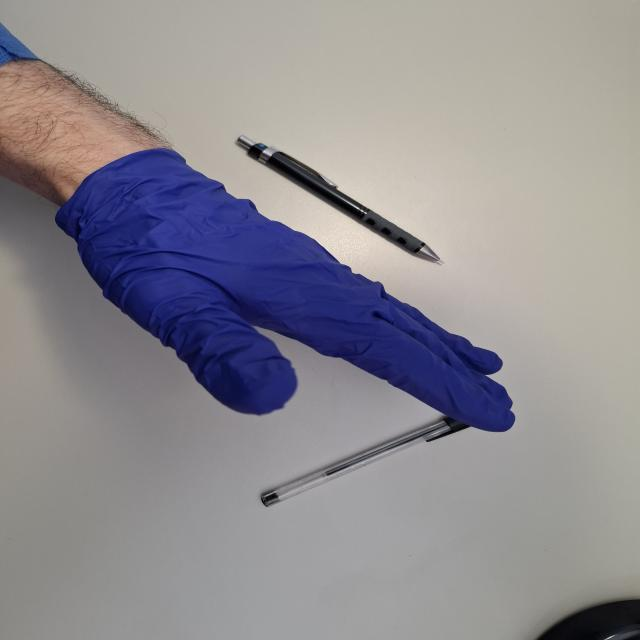glove_on: (49, 145, 520, 436)
